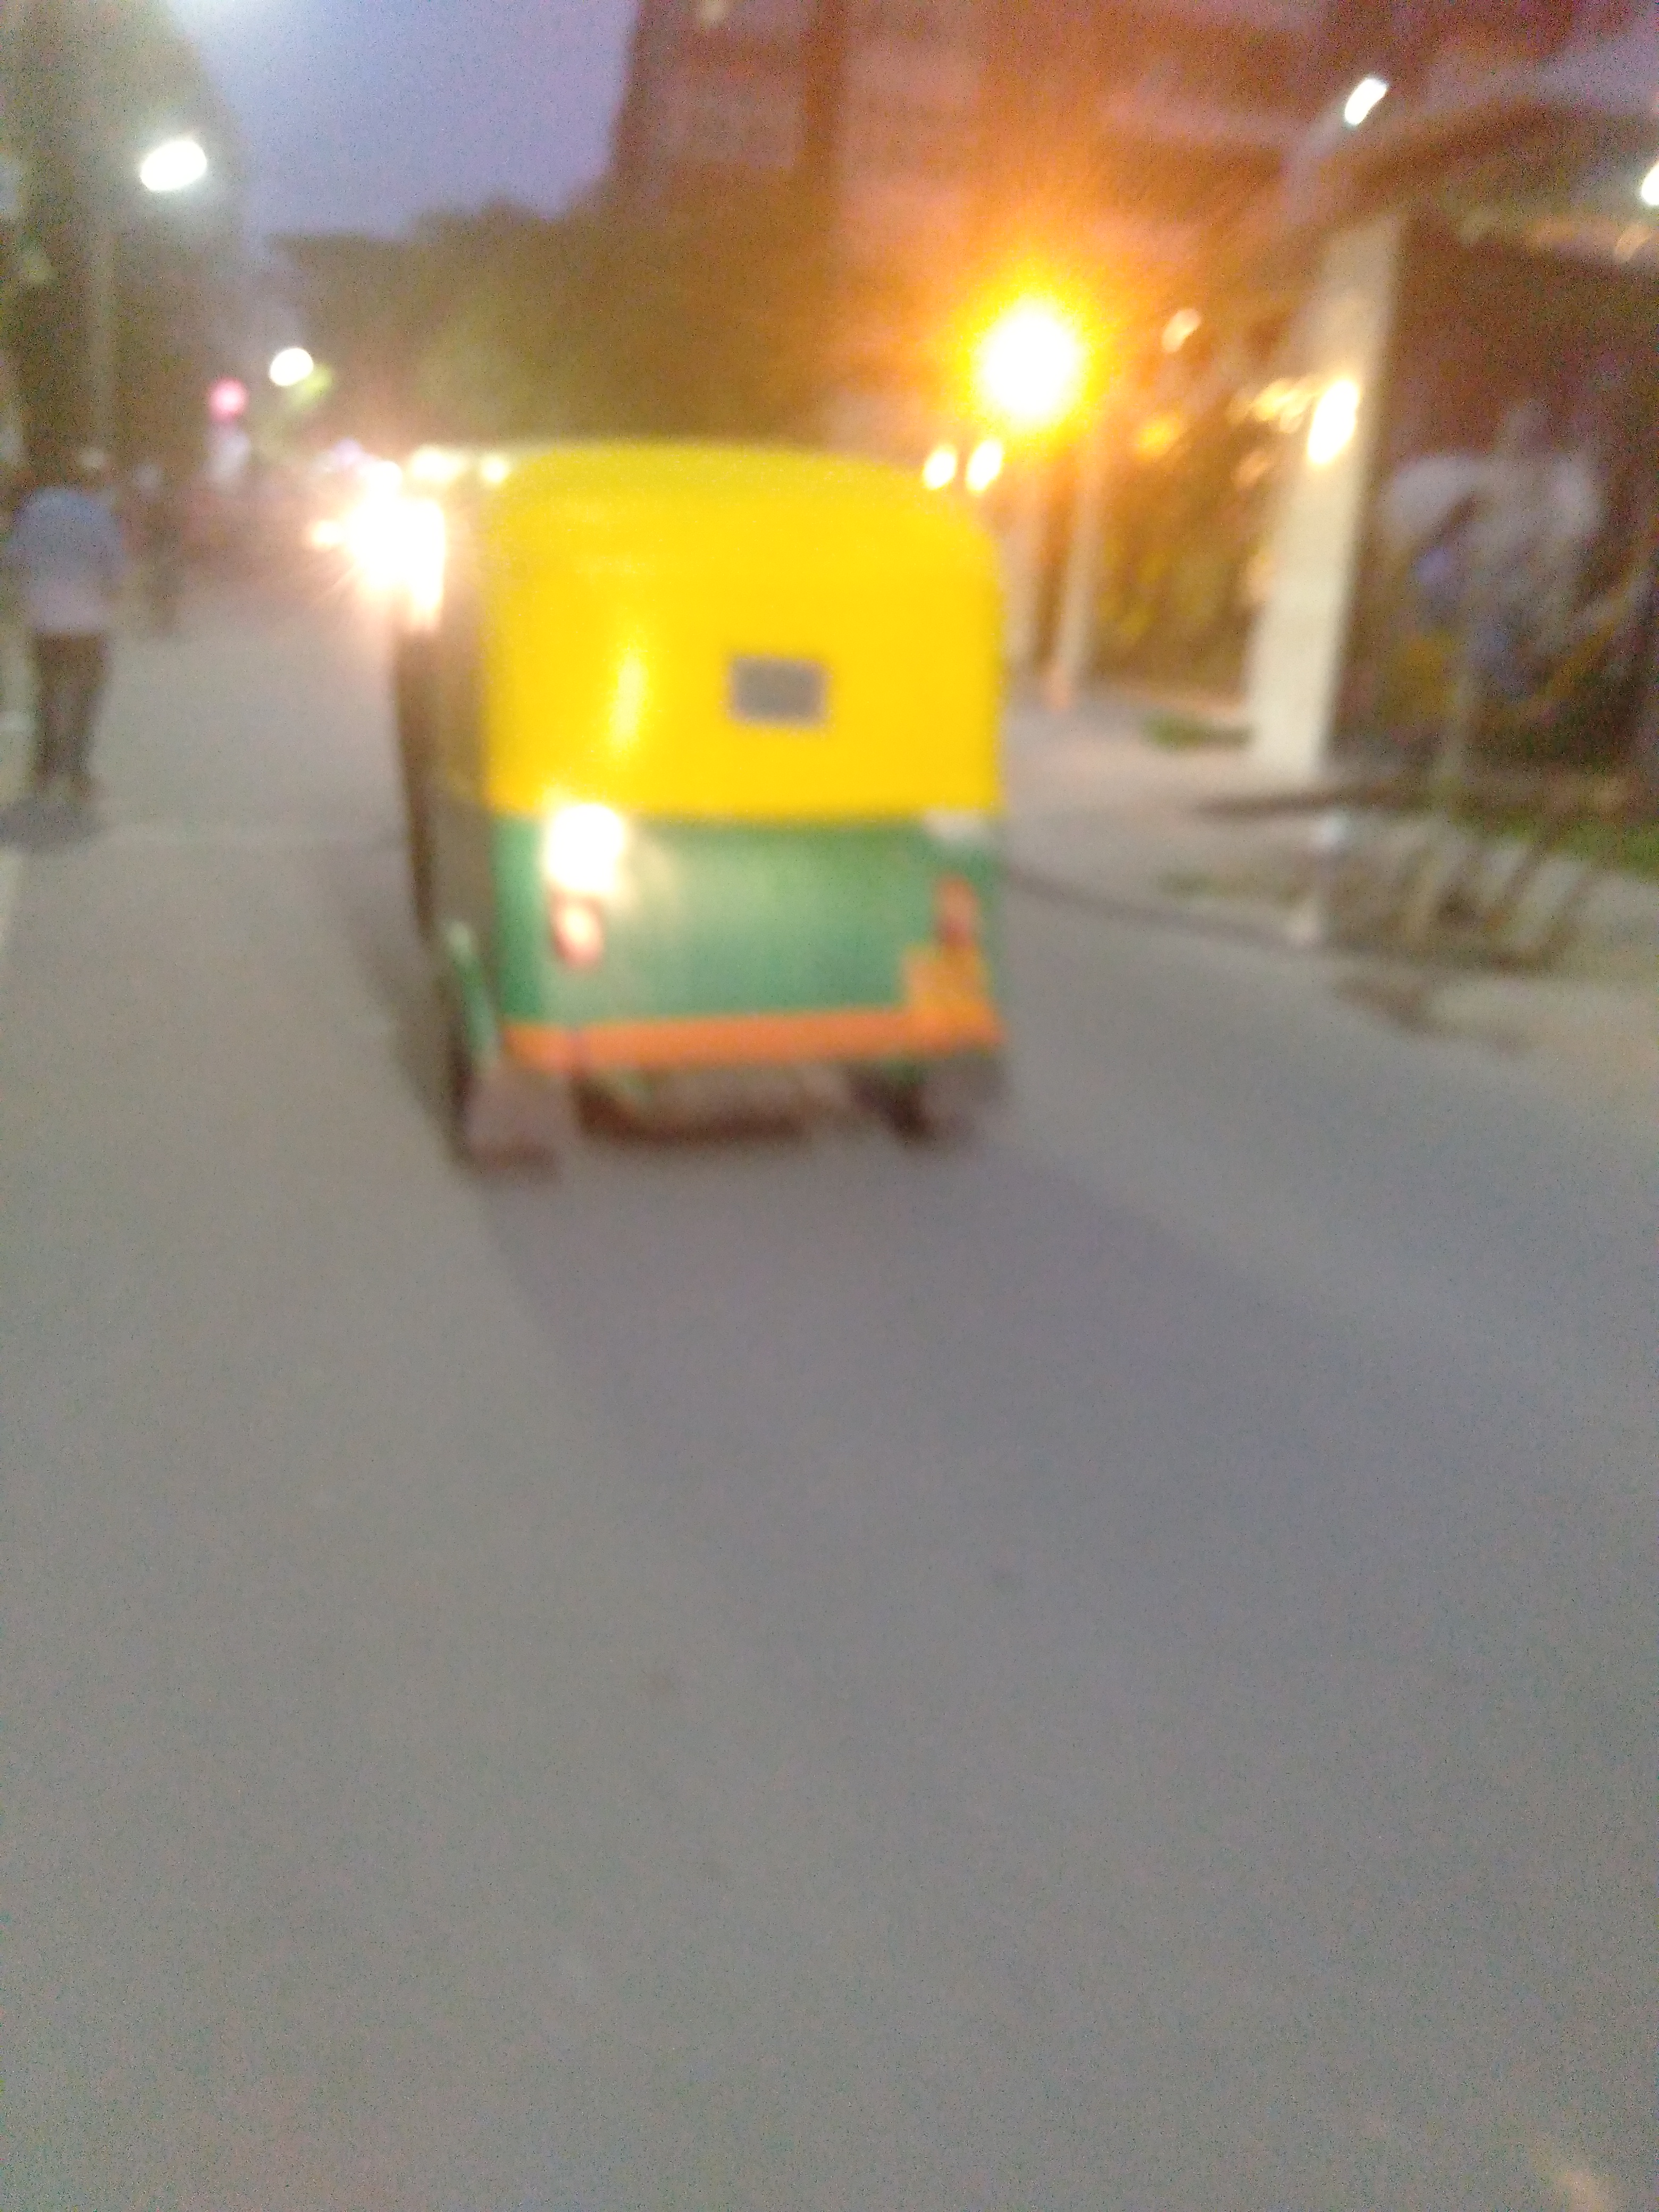auto: (394, 428, 1009, 1158)
